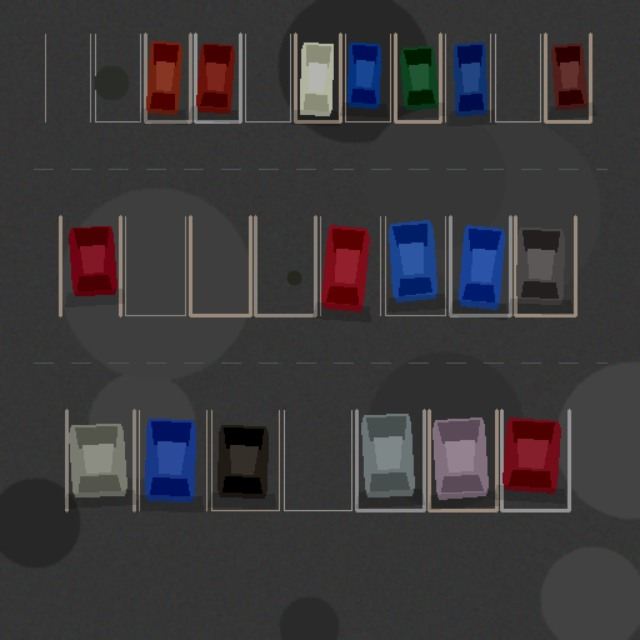space-empty: (284, 410, 351, 510), (125, 216, 185, 315), (190, 216, 250, 315), (255, 216, 315, 315), (45, 34, 90, 121), (95, 34, 140, 121), (245, 34, 290, 121), (495, 34, 540, 121)
space-occupied: (66, 410, 134, 510), (211, 410, 279, 510), (356, 410, 424, 510), (501, 410, 569, 510), (139, 410, 206, 510), (429, 410, 496, 510), (60, 216, 120, 315), (320, 216, 380, 315), (385, 216, 445, 315), (450, 216, 510, 315), (515, 216, 575, 315), (145, 34, 190, 121), (195, 34, 240, 121), (295, 34, 340, 121), (345, 34, 390, 121), (395, 34, 440, 121), (445, 34, 490, 121), (545, 34, 590, 121)
